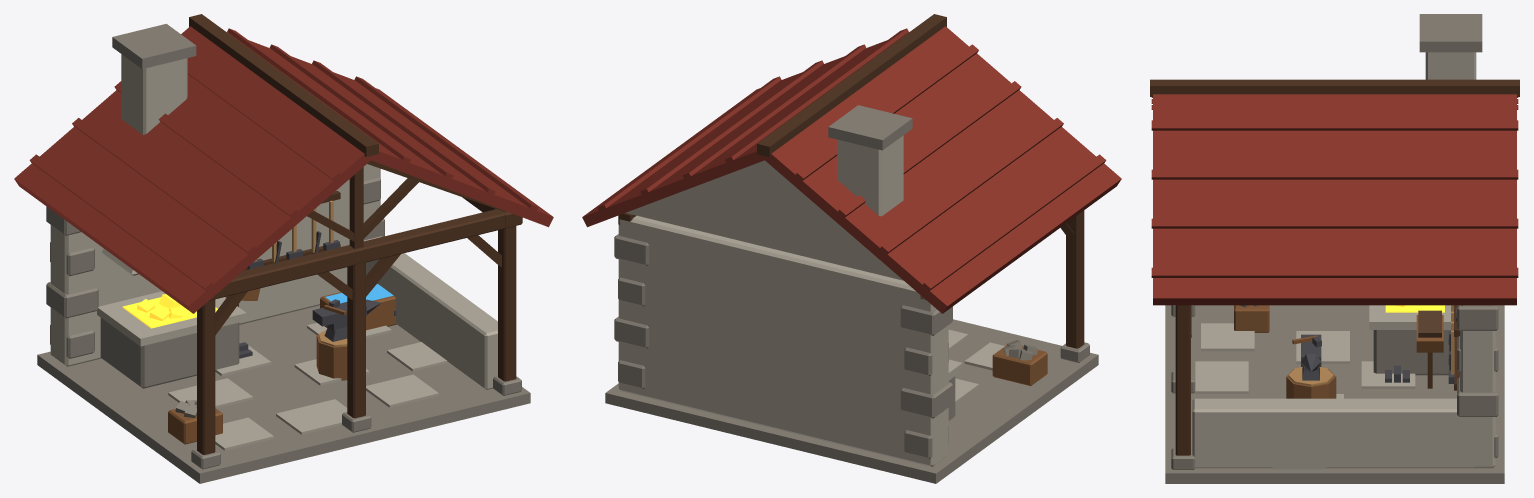
Rendered from Schmiede.fbx.
3 views of the same model, side by side, from view 1: azimuth 30°, elevation 25°; view 2: azimuth 150°, elevation 25°; view 3: azimuth 270°, elevation 25° (orthographic). The views are drawn at different scales.
Parts seen in each view (by area): view 1: Schmiede; view 2: Schmiede; view 3: Schmiede.
Boxes of the visible parts, box(x1,y1,x2,y2) form: Schmiede: box(14, 14, 553, 483); Schmiede: box(582, 14, 1121, 483); Schmiede: box(1150, 14, 1519, 483).
Bounding box in the file's own units: 7.4 × 6.2 × 6.22.
